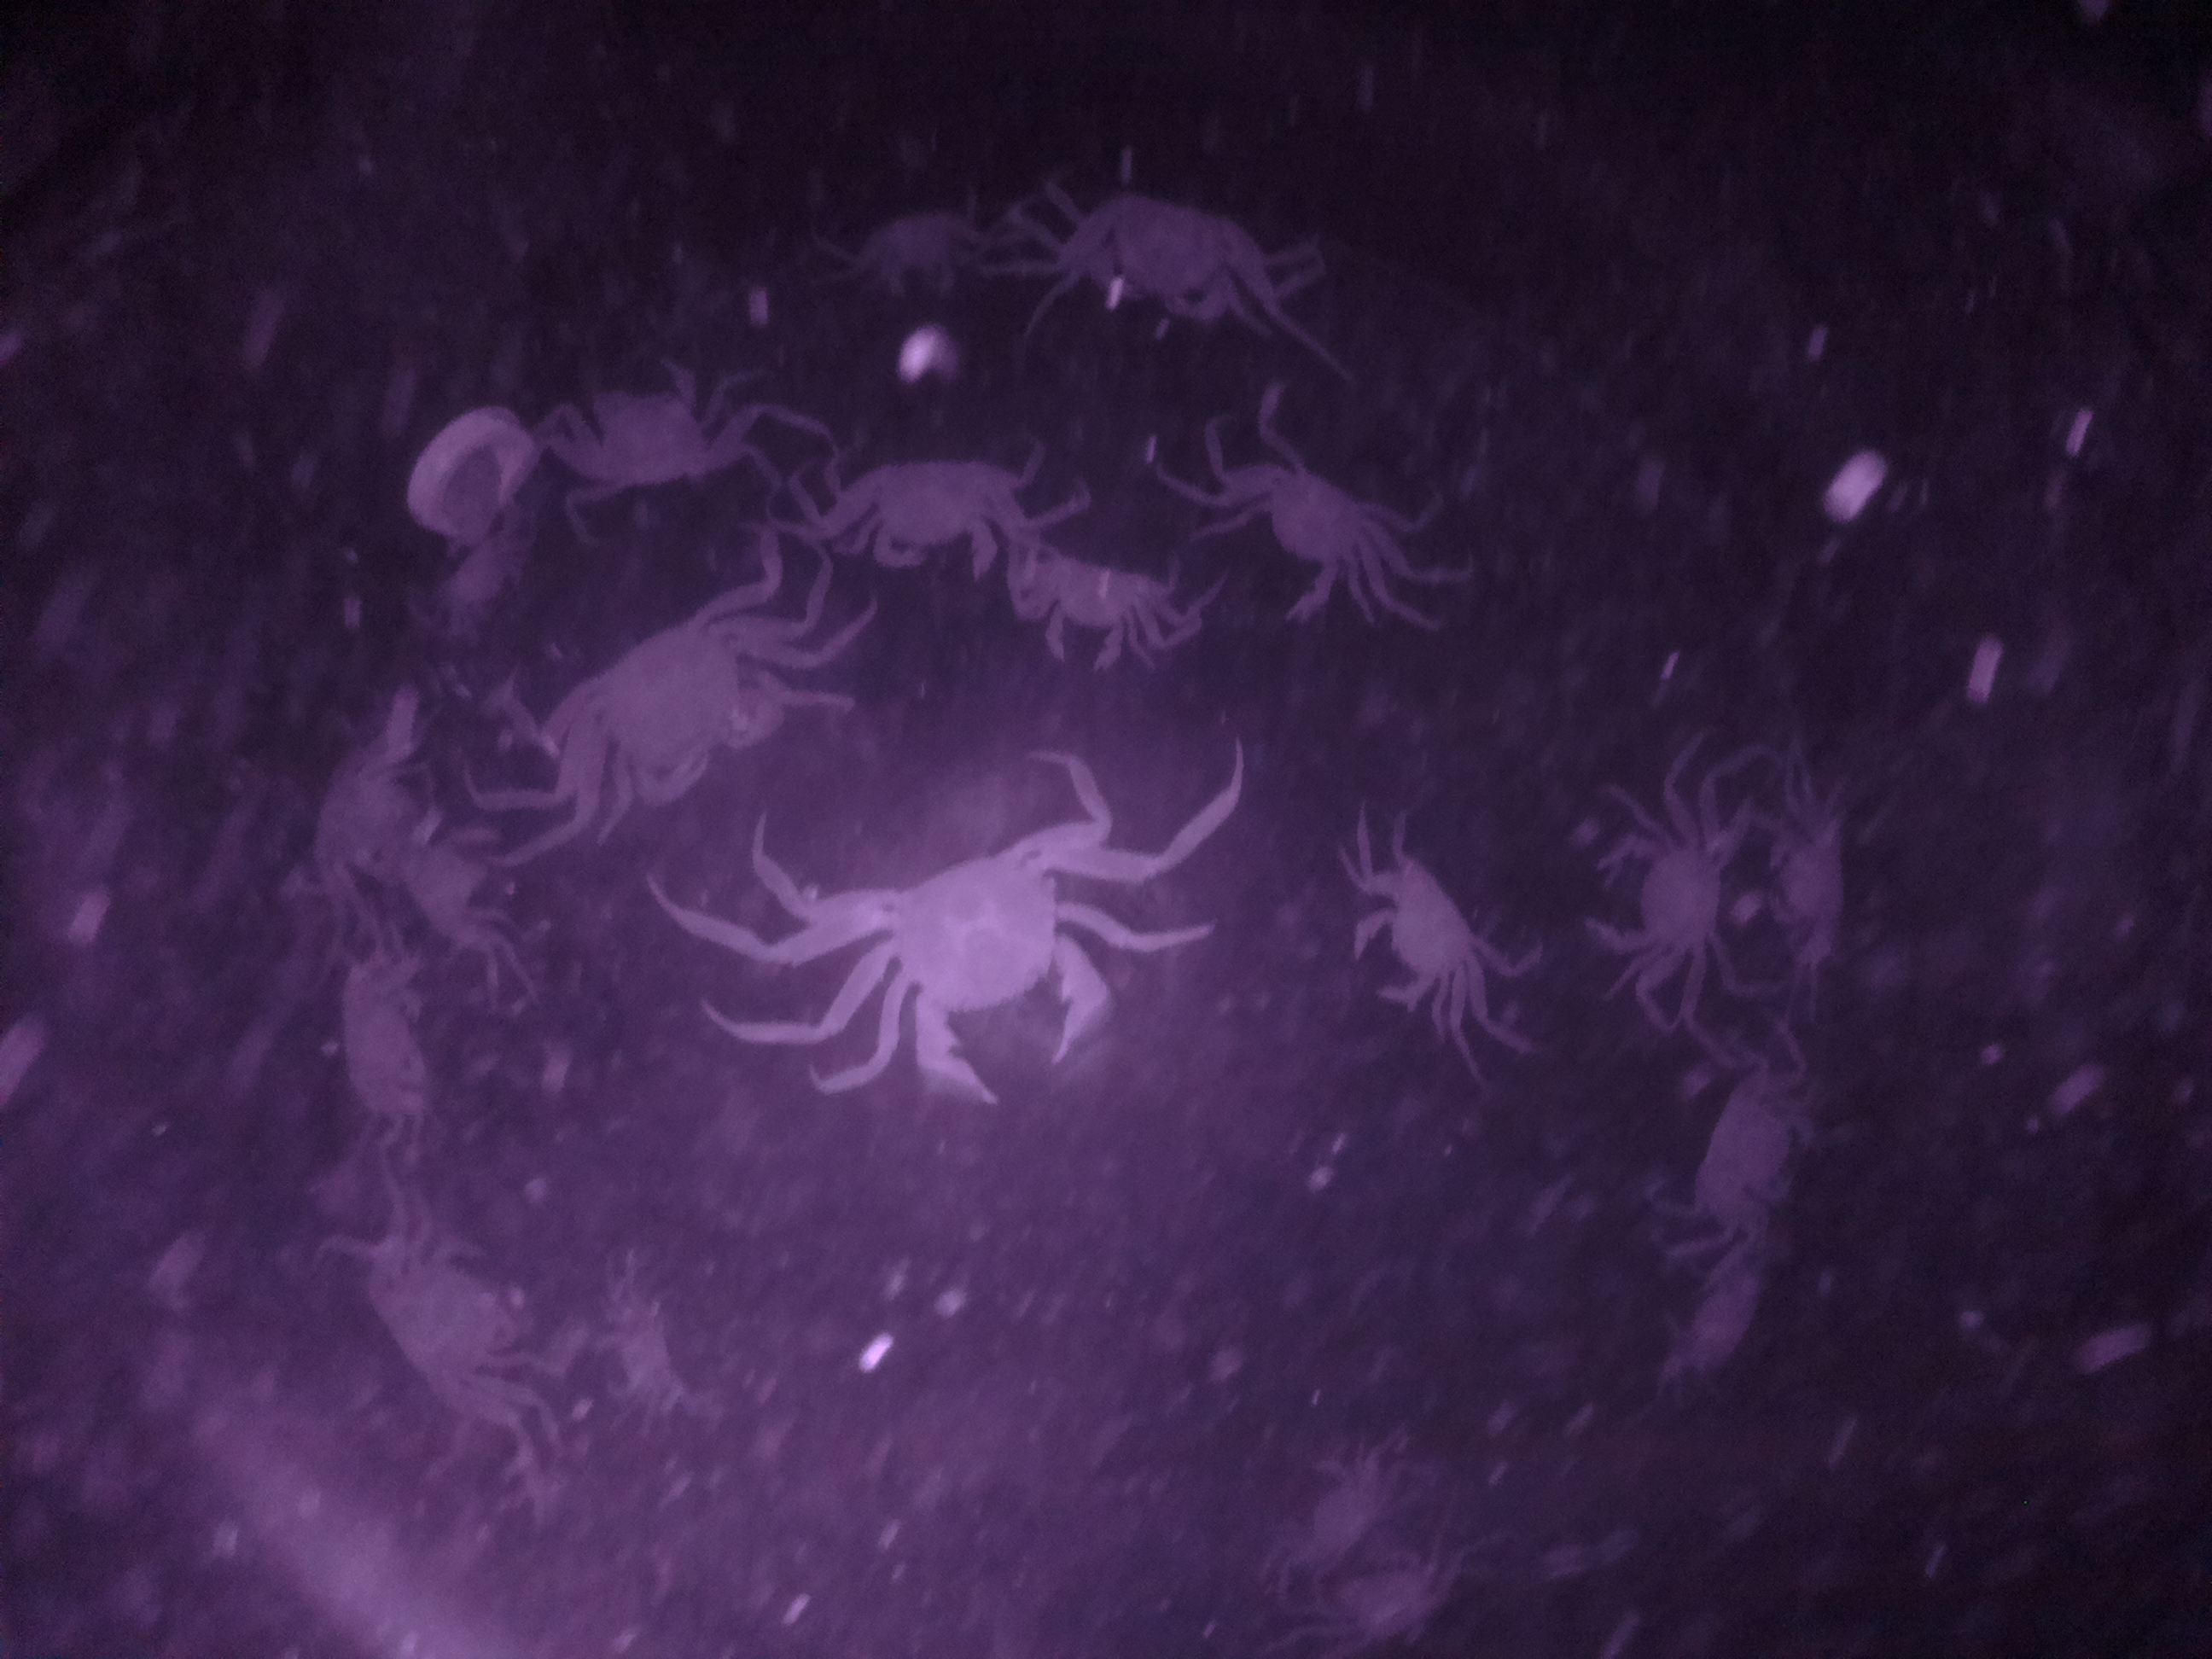Crab: (826, 817, 1132, 1112), (528, 598, 808, 838), (348, 1209, 545, 1417), (536, 340, 756, 516), (1209, 436, 1406, 627), (1571, 800, 1752, 993), (1062, 185, 1289, 326), (824, 434, 1042, 580), (1327, 843, 1494, 1030), (1658, 1063, 1836, 1230), (319, 929, 449, 1148), (1007, 554, 1177, 678), (1749, 802, 1858, 951)
